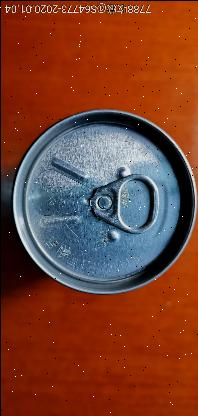Can: (11, 109, 196, 293)
